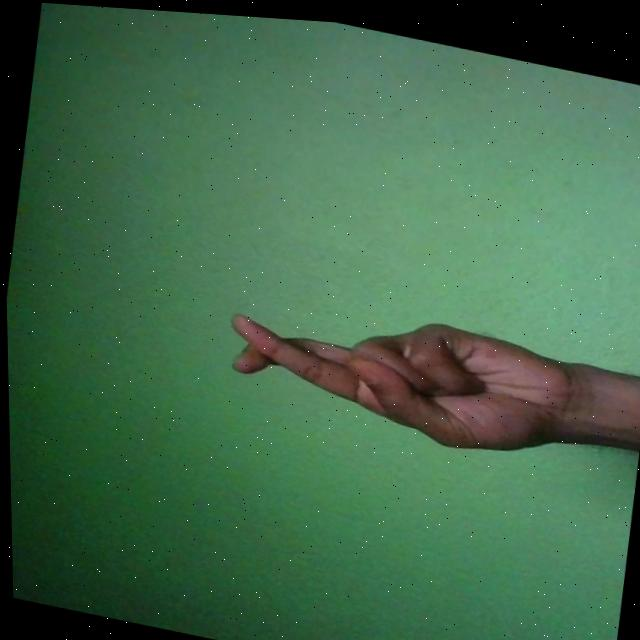Good Luck: (216, 277, 588, 464)
